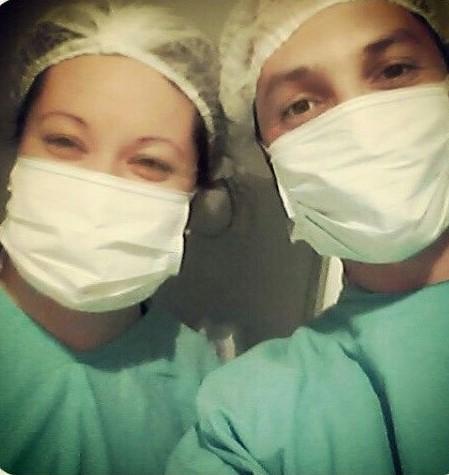face_with_mask: (4, 5, 212, 315), (219, 5, 448, 265)
